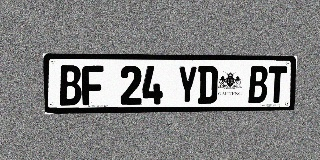2: (120, 65, 141, 105)
4: (142, 66, 163, 104)
B: (59, 65, 82, 105), (248, 66, 268, 103)
D: (197, 66, 218, 104)
F: (82, 65, 104, 105)
T: (267, 66, 287, 103)
Y: (177, 66, 197, 104)
